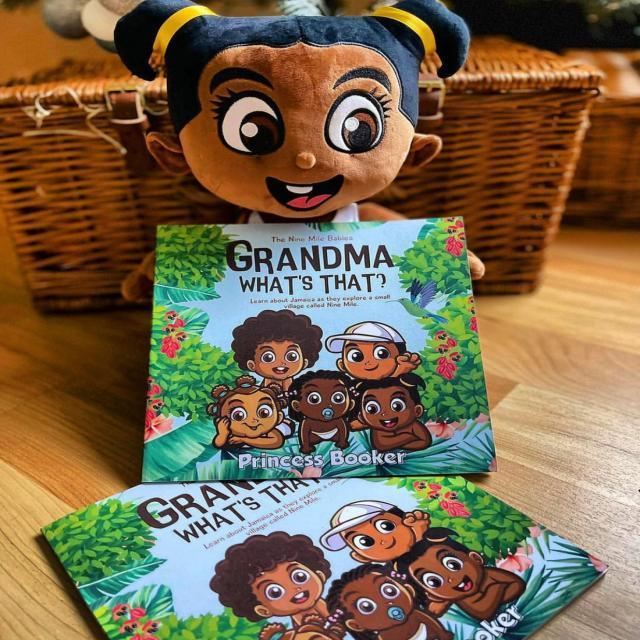hard-toy: (116, 1, 470, 224)
